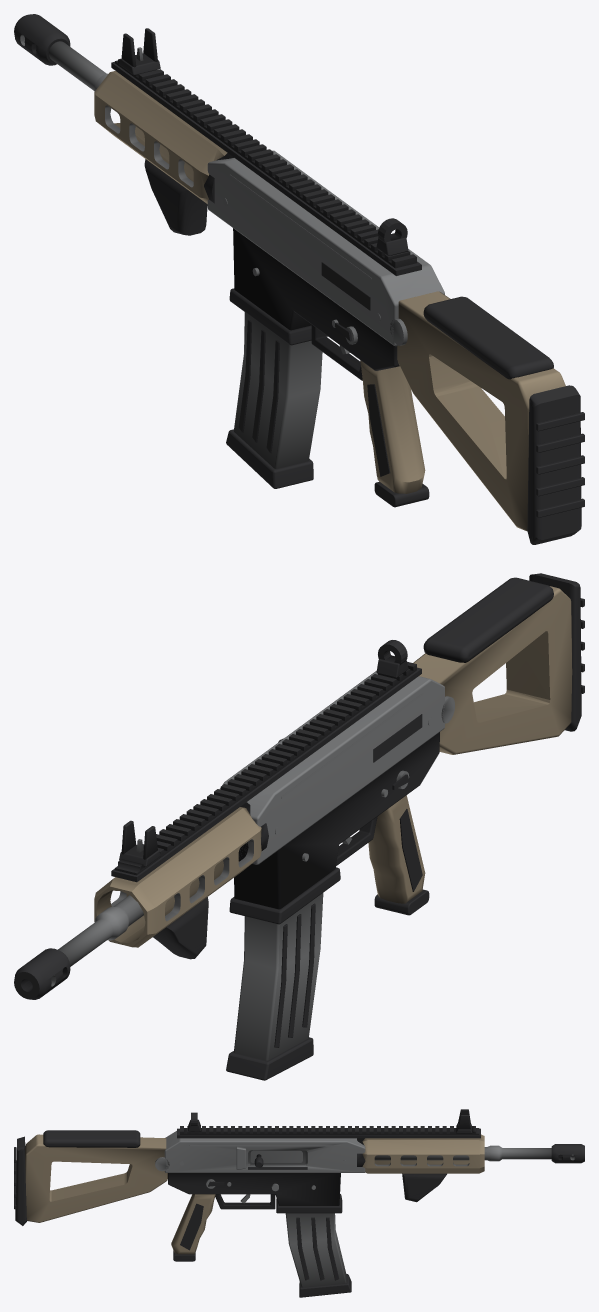
File: sentry_br3.glb
3 views of the same model, one above another, from view 1: azimuth 30°, elevation 25°; view 2: azimuth 150°, elevation 25°; view 3: azimuth 270°, elevation 25° (orthographic). The views are drawn at different scales.
Parts seen in each view (by area): view 1: Receiver, Stock, Magazine, Handguard, Foregrip, IronSights, MuzzleBrake, Barrel; view 2: Receiver, Stock, Magazine, Handguard, Barrel, IronSights, MuzzleBrake, Foregrip; view 3: Receiver, Stock, Magazine, Handguard, Barrel, Foregrip, MuzzleBrake, Bolt, IronSights.
Boxes of the visible parts, left/top/right/bottom form: Receiver: left=111, top=58, right=444, bottom=507; Stock: left=390, top=291, right=584, bottom=544; Magazine: left=226, top=312, right=322, bottom=488; Handguard: left=94, top=71, right=227, bottom=203; Foregrip: left=144, top=159, right=207, bottom=235; IronSights: left=119, top=28, right=408, bottom=255; MuzzleBrake: left=14, top=14, right=70, bottom=65; Barrel: left=48, top=41, right=108, bottom=91; Receiver: left=111, top=661, right=444, bottom=924; Stock: left=413, top=573, right=584, bottom=754; Magazine: left=226, top=893, right=323, bottom=1080; Handguard: left=94, top=807, right=261, bottom=947; Barrel: left=58, top=895, right=143, bottom=966; IronSights: left=119, top=640, right=408, bottom=866; MuzzleBrake: left=14, top=948, right=70, bottom=999; Foregrip: left=153, top=897, right=208, bottom=959; Receiver: left=164, top=1126, right=480, bottom=1261; Stock: left=14, top=1130, right=169, bottom=1225; Magazine: left=285, top=1213, right=351, bottom=1297; Handguard: left=362, top=1134, right=484, bottom=1173; Barrel: left=374, top=1145, right=551, bottom=1161; Foregrip: left=402, top=1173, right=446, bottom=1202; MuzzleBrake: left=551, top=1144, right=584, bottom=1163; Bolt: left=250, top=1150, right=302, bottom=1162; IronSights: left=188, top=1109, right=472, bottom=1133.
Size of the model in its own units: 0.0835 by 0.3278 by 0.939.
